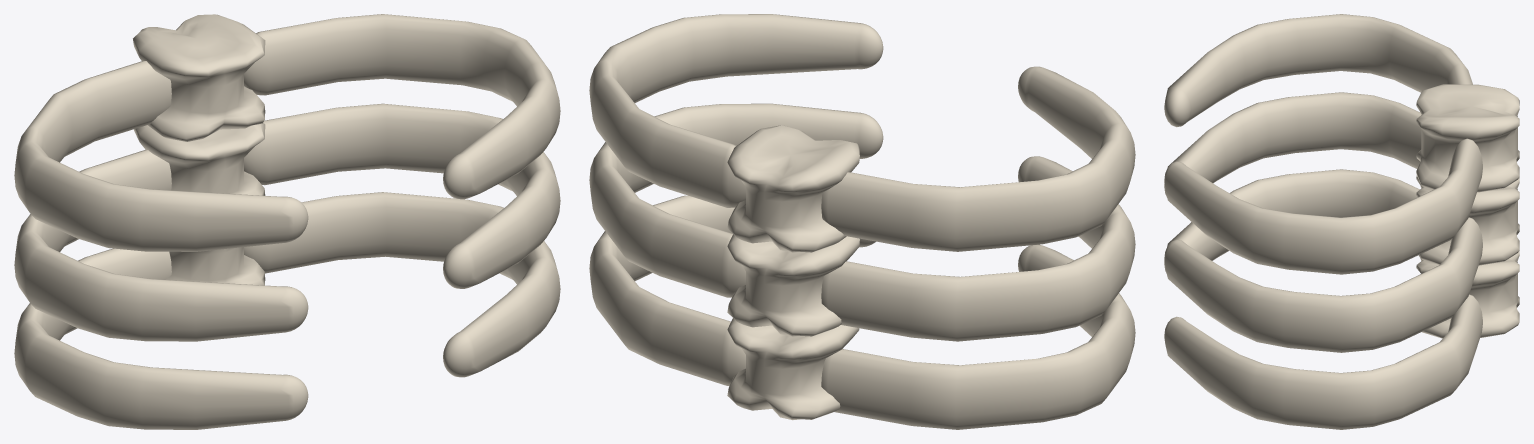
The model's file is Rib_Set.fbx.
The picture shows the model from 3 angles, left to right: view 1: azimuth 30°, elevation 25°; view 2: azimuth 150°, elevation 25°; view 3: azimuth 270°, elevation 25°; orthographic projection. The views are drawn at different scales.
Visible parts, largest first — view 1: Rib3, Rib4, Rib6, Rib5, Rib7, Rib8, Single_Bone1, Single_Bone2, Single_Bone3; view 2: Rib4, Rib3, Rib7, Rib5, Rib6, Rib8, Single_Bone1, Single_Bone2, Single_Bone3; view 3: Rib4, Rib6, Rib8, Rib3, Rib5, Single_Bone1, Rib7, Single_Bone2, Single_Bone3.
Part boxes in pixels (x1=…): Rib3: x1=14, y1=61, x2=308, y2=251; Rib4: x1=244, y1=14, x2=560, y2=199; Rib6: x1=244, y1=103, x2=560, y2=288; Rib5: x1=14, y1=150, x2=308, y2=341; Rib7: x1=14, y1=248, x2=308, y2=429; Rib8: x1=244, y1=192, x2=560, y2=377; Single_Bone1: x1=133, y1=14, x2=265, y2=141; Single_Bone2: x1=134, y1=123, x2=265, y2=195; Single_Bone3: x1=166, y1=247, x2=265, y2=285; Rib4: x1=589, y1=14, x2=883, y2=207; Rib3: x1=821, y1=66, x2=1135, y2=251; Rib7: x1=821, y1=244, x2=1135, y2=429; Rib5: x1=821, y1=156, x2=1135, y2=341; Rib6: x1=589, y1=103, x2=883, y2=297; Rib8: x1=589, y1=195, x2=875, y2=385; Single_Bone1: x1=727, y1=125, x2=859, y2=252; Single_Bone2: x1=727, y1=234, x2=859, y2=336; Single_Bone3: x1=727, y1=318, x2=859, y2=420; Rib4: x1=1164, y1=138, x2=1482, y2=274; Rib6: x1=1164, y1=217, x2=1482, y2=352; Rib8: x1=1164, y1=294, x2=1482, y2=429; Rib3: x1=1164, y1=14, x2=1472, y2=127; Rib5: x1=1164, y1=92, x2=1421, y2=197; Single_Bone1: x1=1416, y1=84, x2=1519, y2=192; Rib7: x1=1164, y1=169, x2=1419, y2=273; Single_Bone2: x1=1416, y1=176, x2=1519, y2=265; Single_Bone3: x1=1416, y1=250, x2=1519, y2=338.
Size of the model in its own units: 2.11 by 1.46 by 1.
